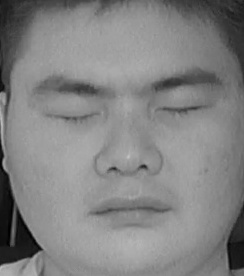blink: (45, 97, 103, 135), (157, 92, 210, 130)
mouth: (91, 185, 172, 226)
